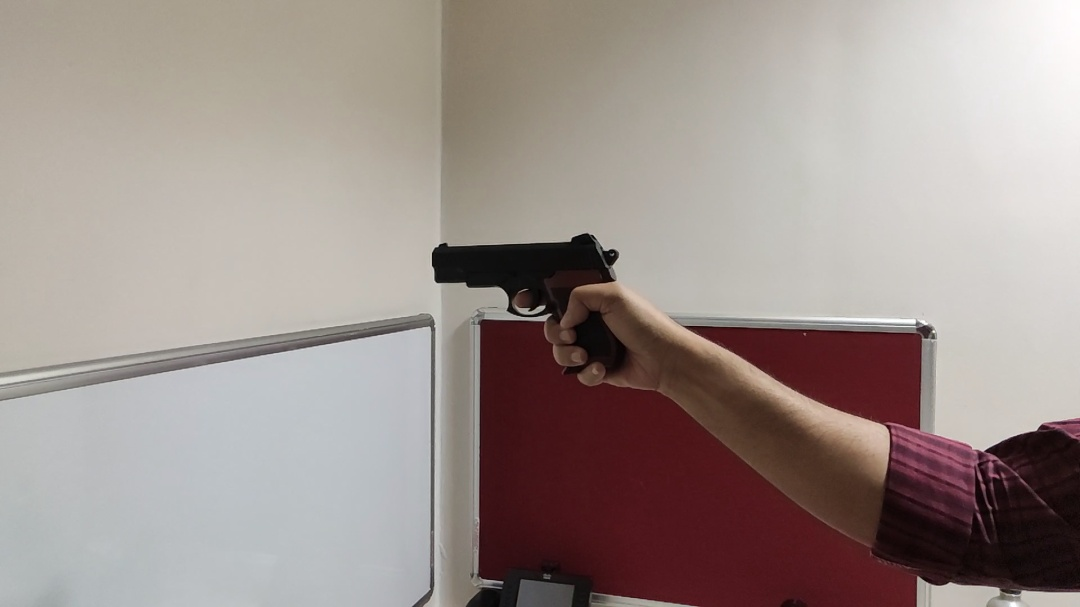gun: (429, 234, 632, 377)
